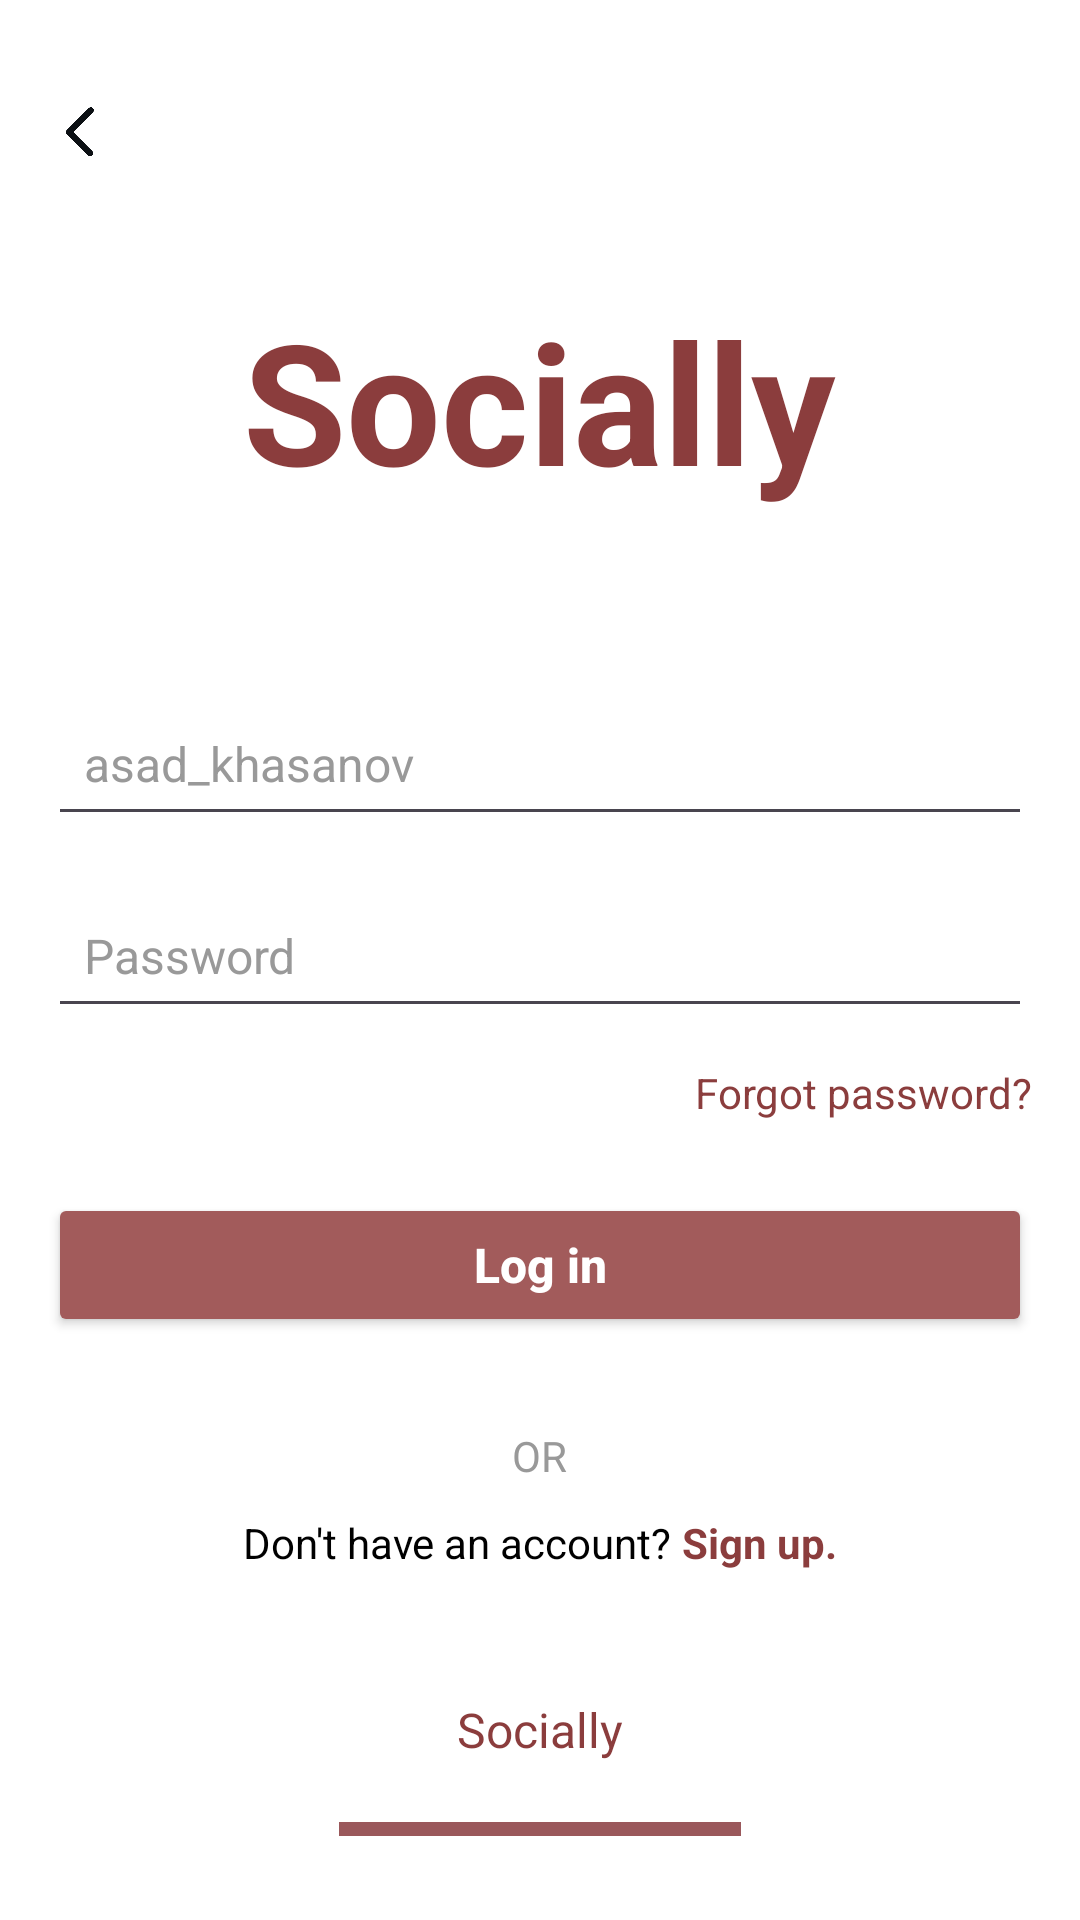

Icon bounding boxes for this 1080w x 1920h phone screenshot, format [x1=x1, y1=y1, x2=x2, y2=y2]:
Back: [x1=66, y1=107, x2=94, y2=156]
